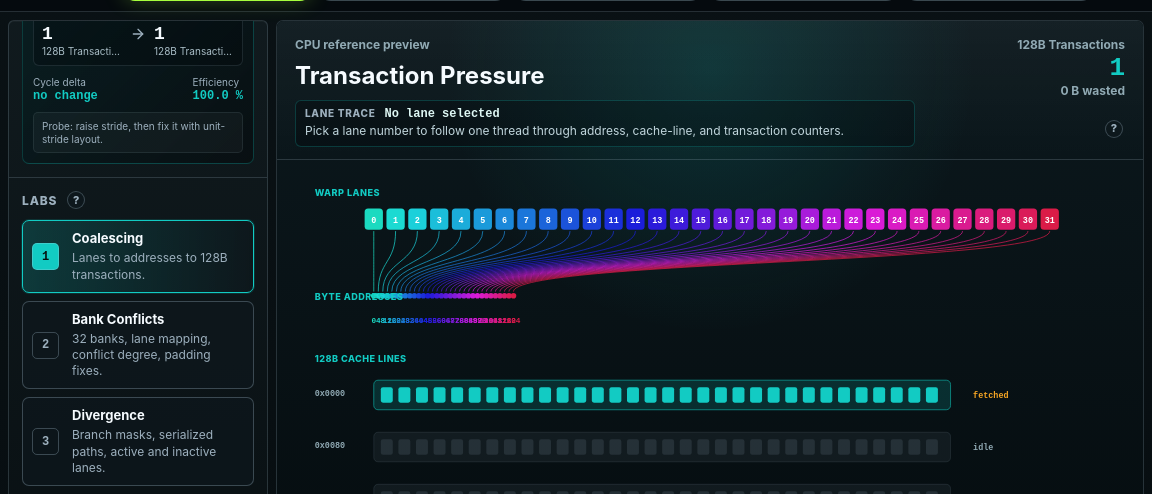
Test: Collide 1.0 workbench shell › switches labs and shows lab-specific metrics
(page scrolled)
Click the button "Bank Conflicts" at (138, 345), box [22,301,254,389]
(page scrolled)
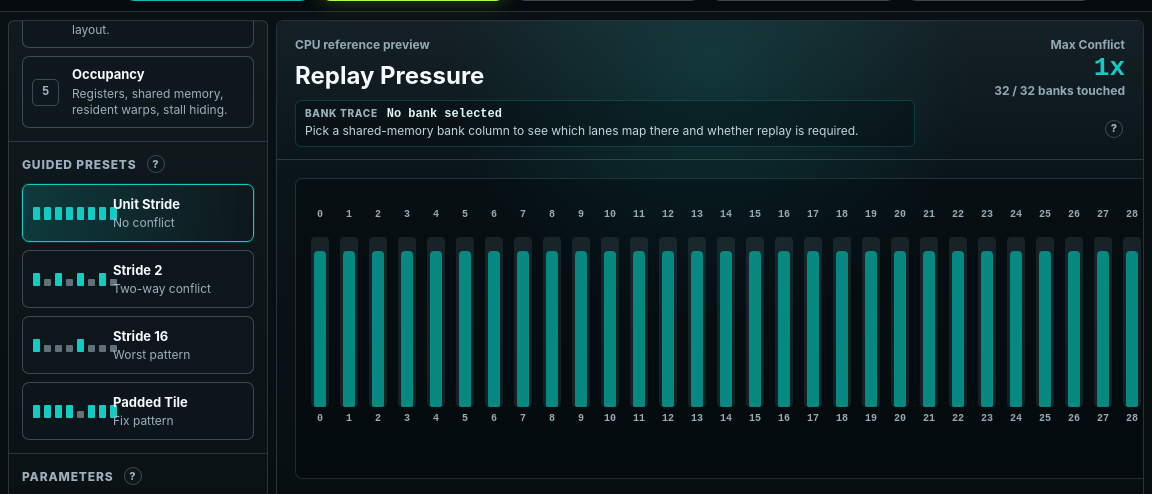
Click the button "Stride 16 Worst pattern" at (138, 345), box [22,316,254,374]
(page scrolled)
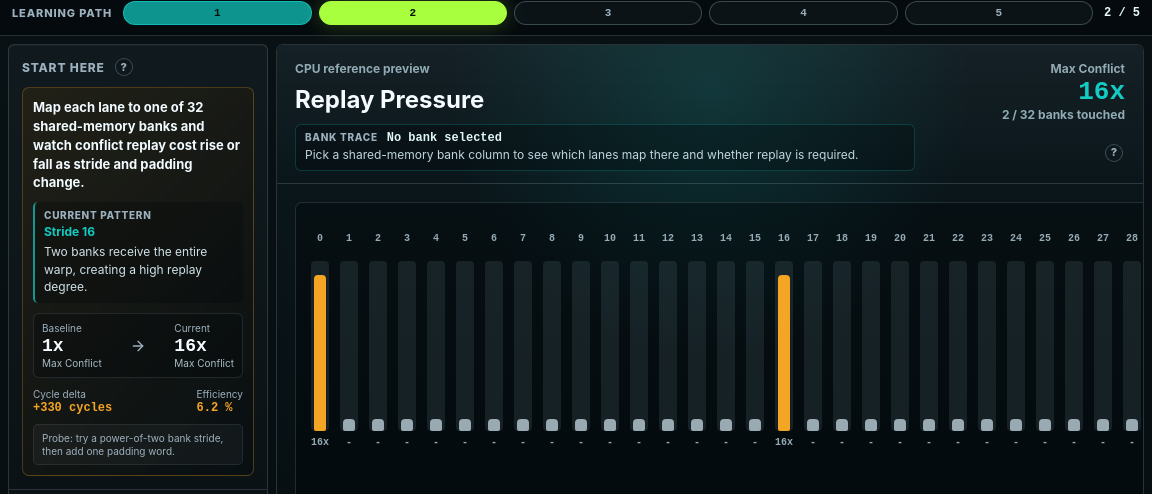
Now the text "16x" next to "1x" is shown, box [174,336,207,356]
